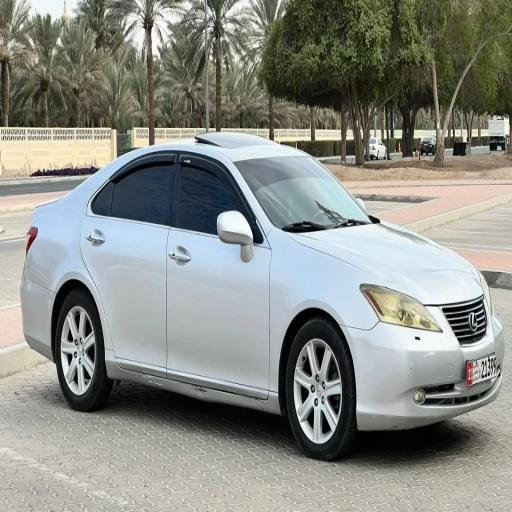license-plates: (467, 353, 497, 386)
